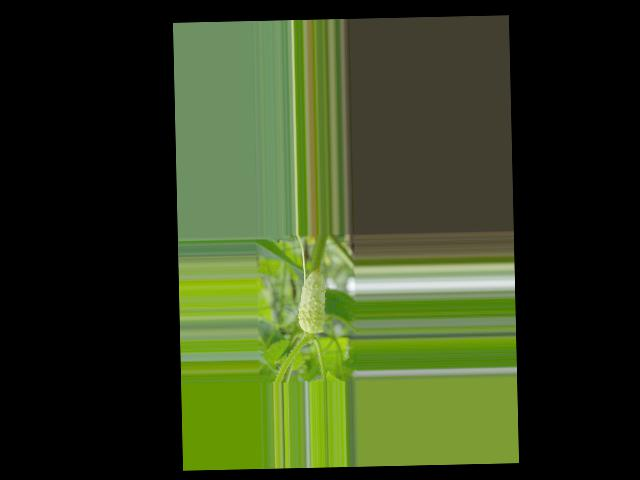cucumber: (296, 268, 325, 333)
